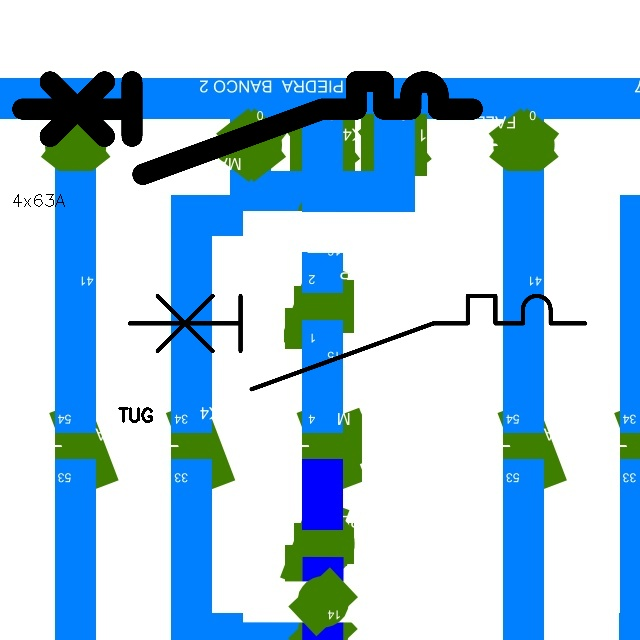interruptor_termomagnetico: (118, 284, 597, 401), (11, 70, 484, 185)
